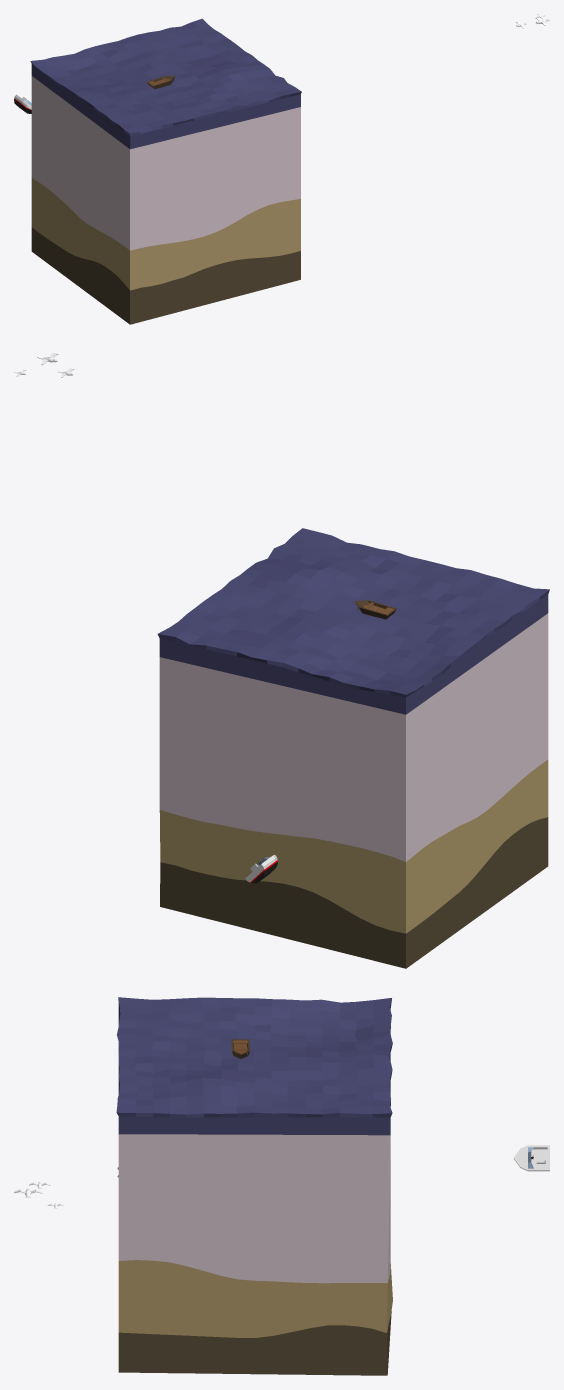
The model's file is new_city.glb.
3 views of the same model, one above another, from view 1: azimuth 30°, elevation 25°; view 2: azimuth 150°, elevation 25°; view 3: azimuth 270°, elevation 25° (orthographic). The views are drawn at different scales.
Visible parts, largest first — view 1: Cube; view 2: Cube; view 3: Cube, Bateau.
Boxes of the visible parts, left/top/right/bottom form: Cube: left=30, top=18, right=301, bottom=324; Cube: left=157, top=528, right=549, bottom=968; Cube: left=116, top=997, right=392, bottom=1375; Bateau: left=513, top=1145, right=549, bottom=1171.
Bounding box in the file's own units: 96.66 × 55.6 × 82.74.
